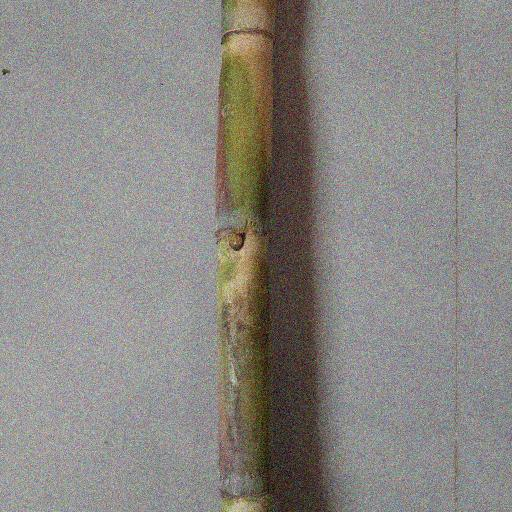Bud: (228, 232, 244, 253)
